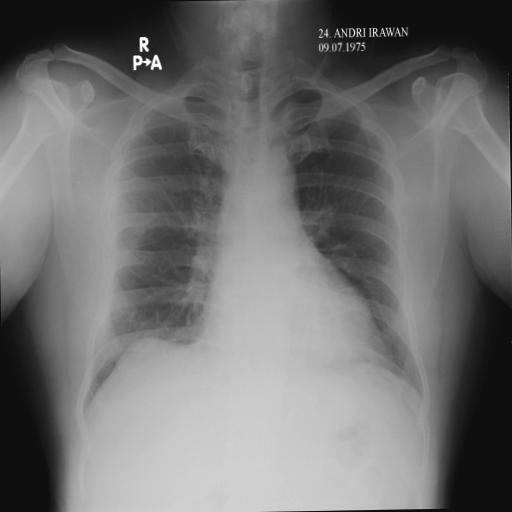kardiomegali: (66, 50, 434, 428)
